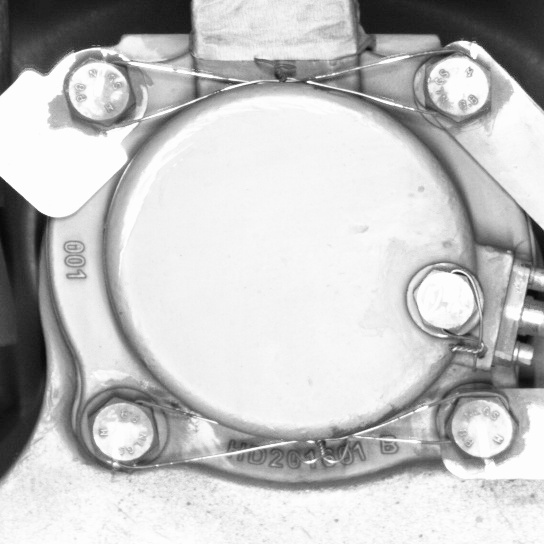IronWire: (75, 383, 519, 481), (53, 44, 501, 132)
Screw: (76, 382, 167, 480), (409, 40, 501, 132), (55, 46, 147, 135), (399, 253, 486, 344), (435, 387, 520, 466)
